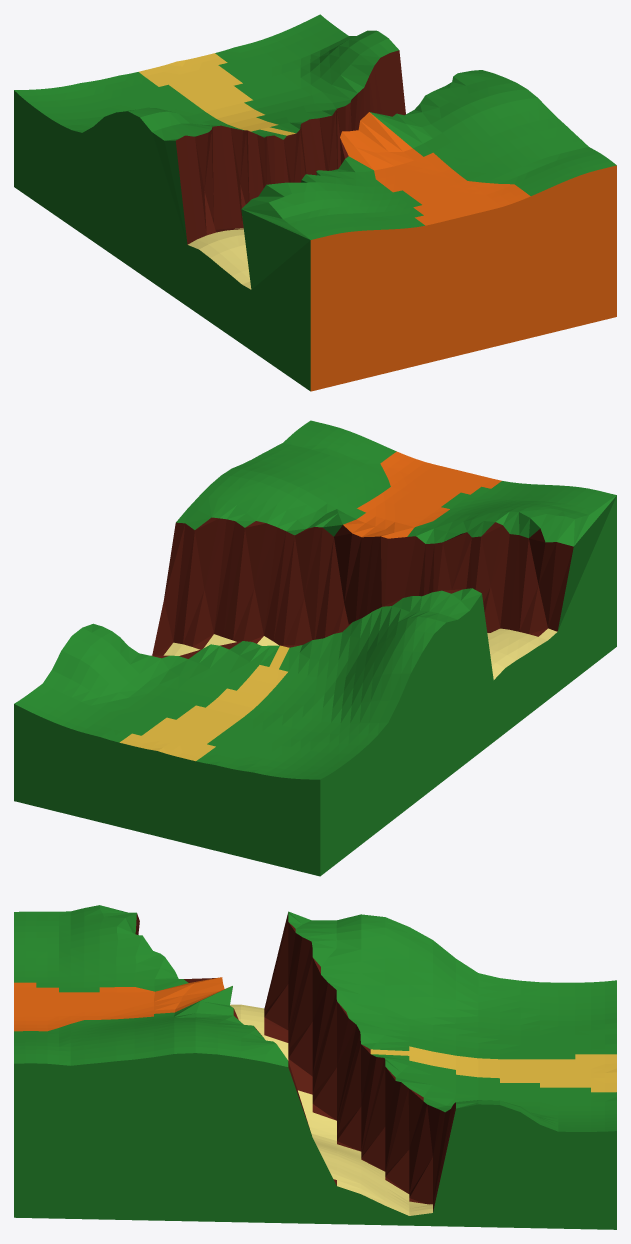
File: Level3-Area1v2.fbx
The picture shows the model from 3 angles, top to bottom: view 1: azimuth 30°, elevation 25°; view 2: azimuth 150°, elevation 25°; view 3: azimuth 270°, elevation 25°; orthographic projection.
Parts seen in each view (by area): view 1: Level3Area1.001; view 2: Level3Area1.001; view 3: Level3Area1.001.
Part boxes in pixels (x1,y1,x2,y2): Level3Area1.001: [14, 14, 616, 391]; Level3Area1.001: [14, 420, 616, 876]; Level3Area1.001: [14, 905, 616, 1229].
Bounding box in the file's own units: 5214 × 2770 × 8392.
